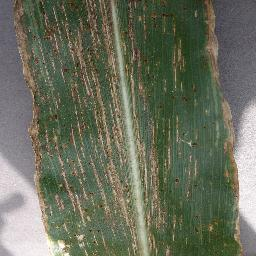Gray_Leaf_Spot: (8, 0, 118, 138), (20, 133, 119, 256), (121, 0, 196, 48), (124, 48, 194, 83), (104, 199, 137, 255), (141, 187, 179, 235), (163, 102, 199, 150), (129, 81, 197, 104), (136, 132, 162, 186), (197, 214, 228, 256), (217, 88, 236, 149), (217, 151, 244, 193), (132, 100, 162, 132), (233, 192, 248, 256), (202, 0, 221, 50), (145, 236, 191, 256), (114, 116, 128, 169), (201, 49, 225, 79), (164, 149, 184, 185), (183, 152, 204, 185), (115, 167, 132, 200), (200, 106, 212, 131), (176, 202, 188, 220), (184, 182, 195, 197), (122, 52, 126, 54)
